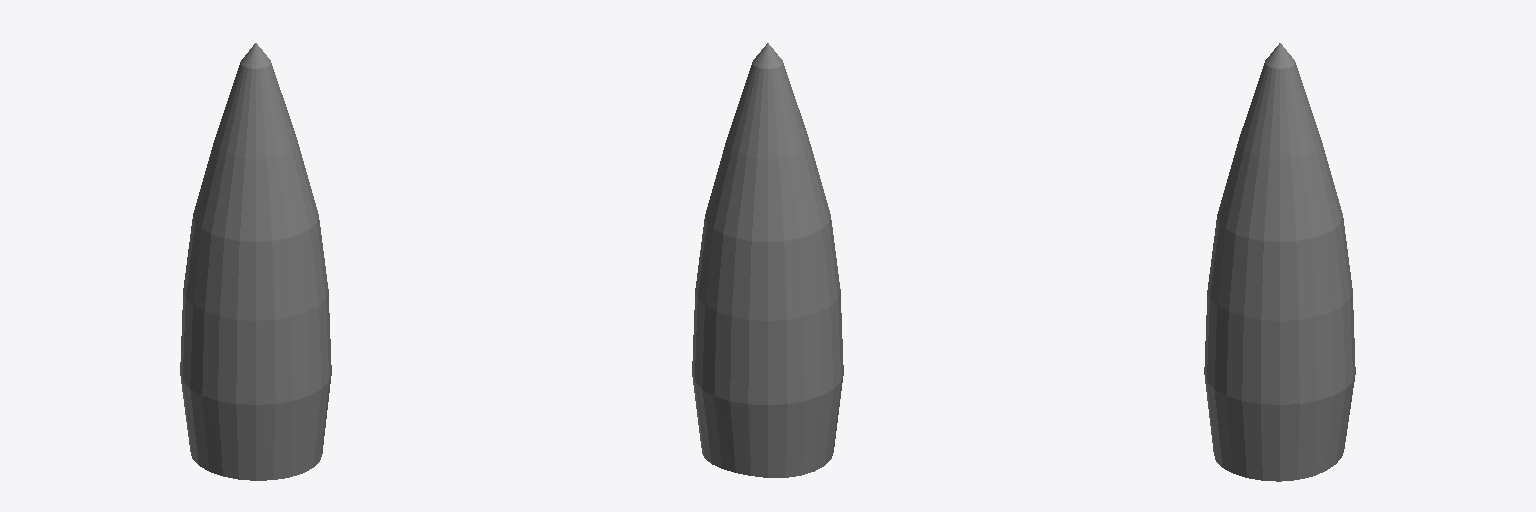
Rendered from shell.OBJ.
3 views of the same model, side by side, from view 1: azimuth 30°, elevation 25°; view 2: azimuth 150°, elevation 25°; view 3: azimuth 270°, elevation 25° (orthographic).
Parts seen in each view (by area): view 1: Group1; view 2: Group1; view 3: Group1.
Boxes of the visible parts, x1,y1,x2,y2 form: Group1: [180, 43, 331, 480]; Group1: [692, 43, 843, 477]; Group1: [1204, 43, 1355, 481].
Bounding box in the file's own units: 2.89 × 8.98 × 2.89.